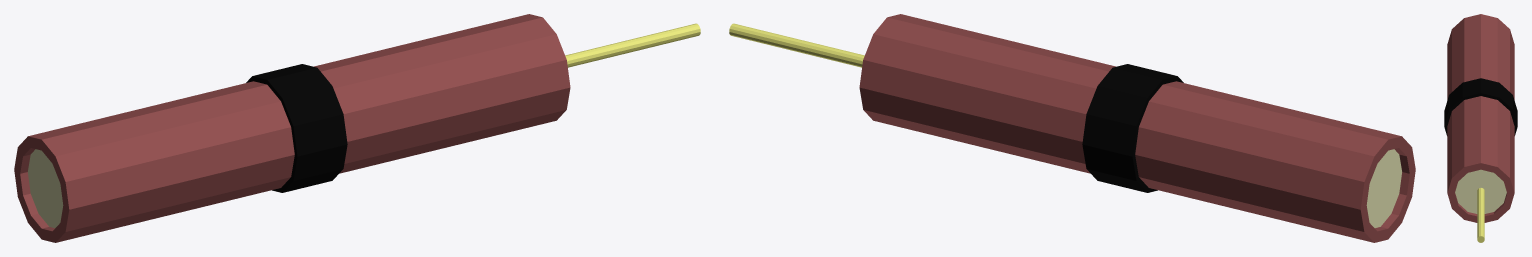
The model's file is Dynamite.fbx.
3 views of the same model, side by side, from view 1: azimuth 30°, elevation 25°; view 2: azimuth 150°, elevation 25°; view 3: azimuth 270°, elevation 25° (orthographic). The views are drawn at different scales.
Parts seen in each view (by area): view 1: dynamite; view 2: dynamite; view 3: dynamite.
Part boxes in pixels (x1,y1,x2,y2): dynamite: (14,14,700,242); dynamite: (729,14,1415,242); dynamite: (1444,14,1517,242).
Bounding box in the file's own units: 0.349 × 0.0557 × 0.0557.
